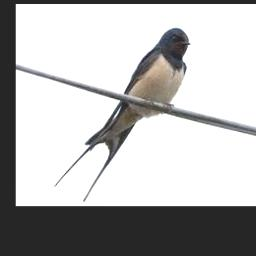Swallow: (54, 28, 191, 201)
